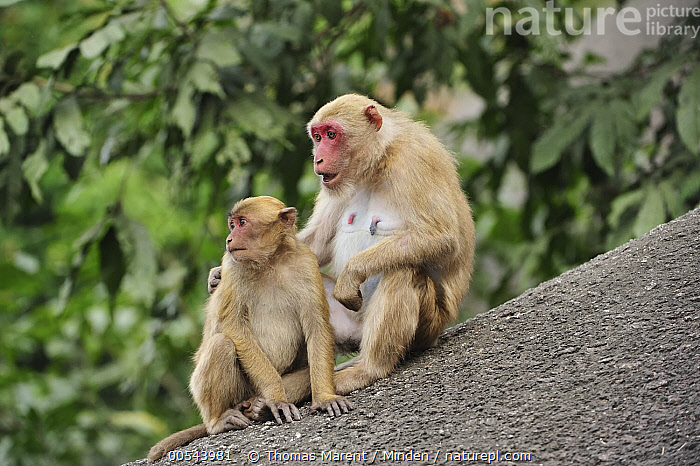monkey: (270, 86, 484, 410), (143, 190, 357, 461)
